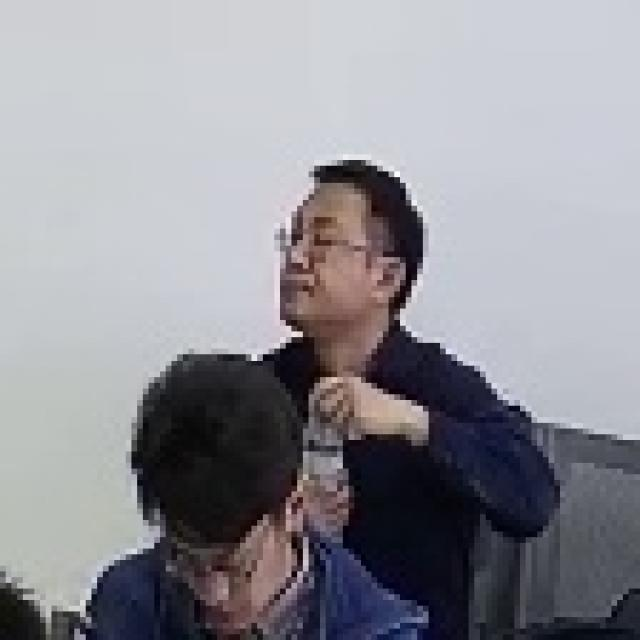drink: (273, 144, 575, 560)
trance: (108, 337, 406, 640)
